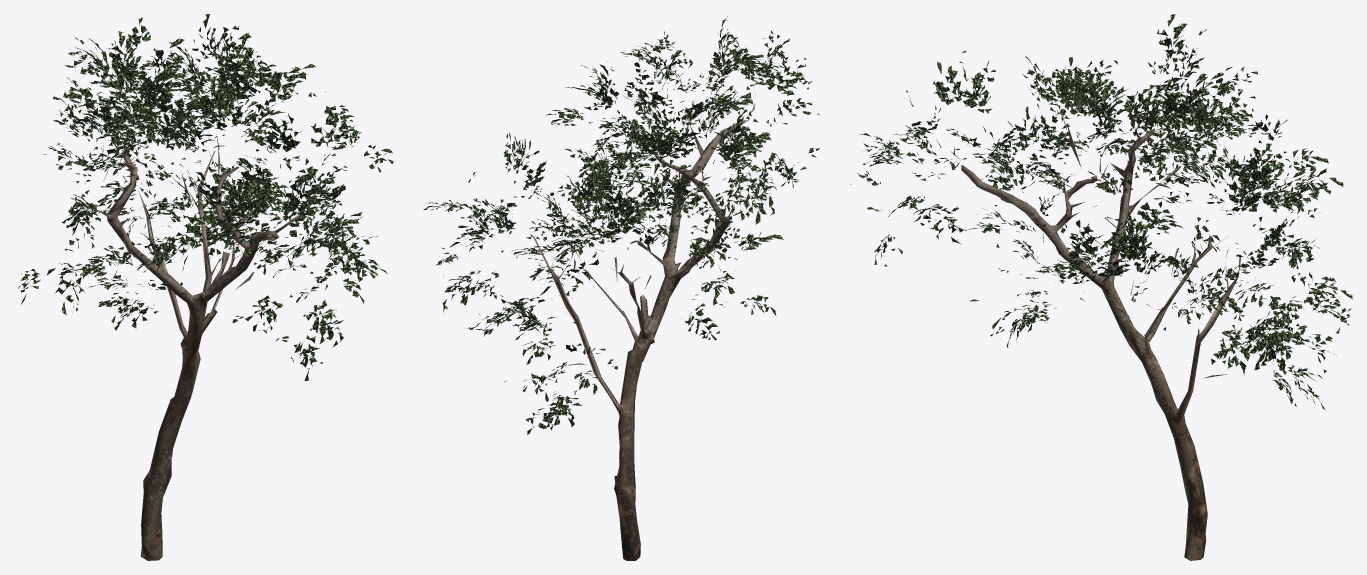
File: tree_small_02.glb
The picture shows the model from 3 angles, left to right: view 1: azimuth 30°, elevation 25°; view 2: azimuth 150°, elevation 25°; view 3: azimuth 270°, elevation 25°; orthographic projection. The views are drawn at different scales.
Parts seen in each view (by area): view 1: tree_small_02_LOD0; view 2: tree_small_02_LOD0; view 3: tree_small_02_LOD0.
Boxes of the visible parts, <box> form: tree_small_02_LOD0: <box>18,14,393,560</box>; tree_small_02_LOD0: <box>423,16,819,560</box>; tree_small_02_LOD0: <box>850,14,1352,560</box>.
Bounding box in the file's own units: 2.89 × 4.54 × 4.12.
Materials: 3 (3 with a texture image).
